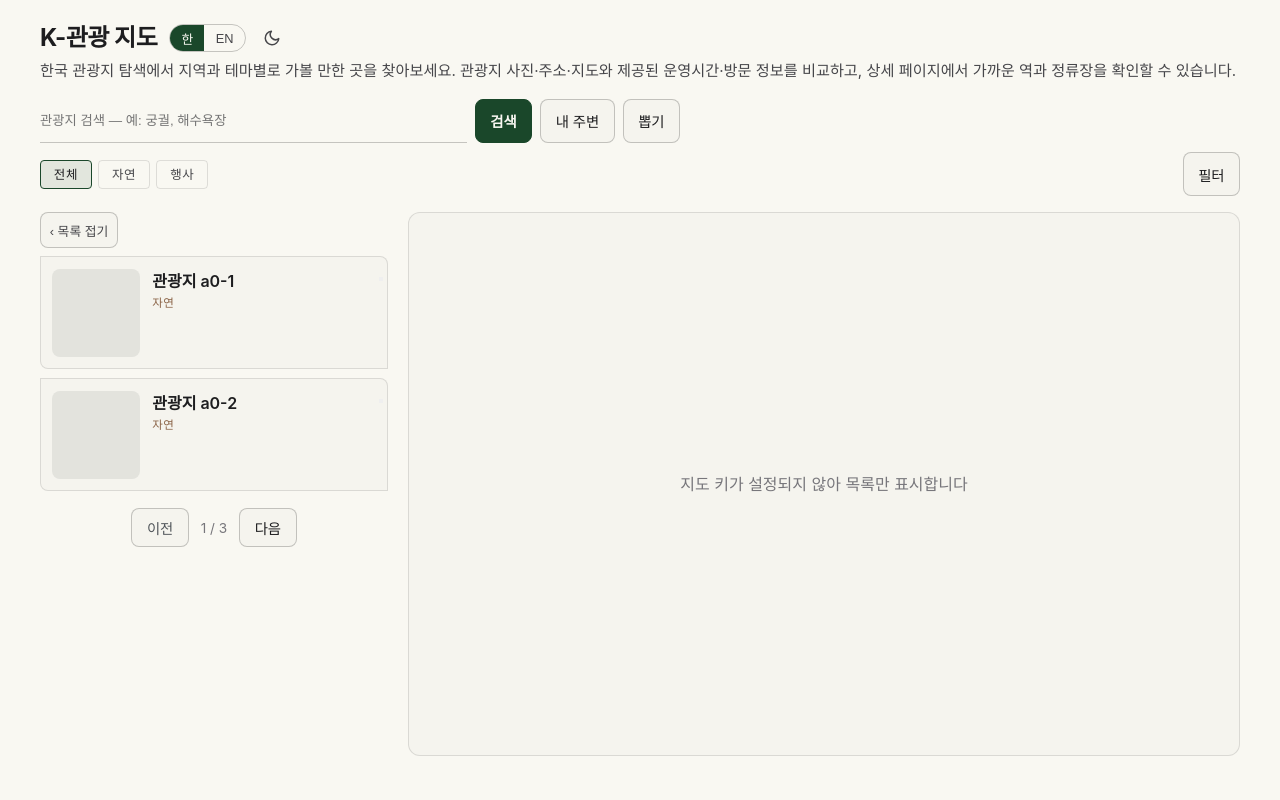
PlacePage 속성 칩 › 행사 칩을 고르면 속성 칩 줄을 그리지 않고 속성 조건·건수 요청도 보내지 않는다 — 풀면 고른 칩이 돌아온다
Expected: the heading "관광지 a0-1" is shown, [152,269,234,293]
Click the button "필터": (1211, 174) [1183,152,1240,196]
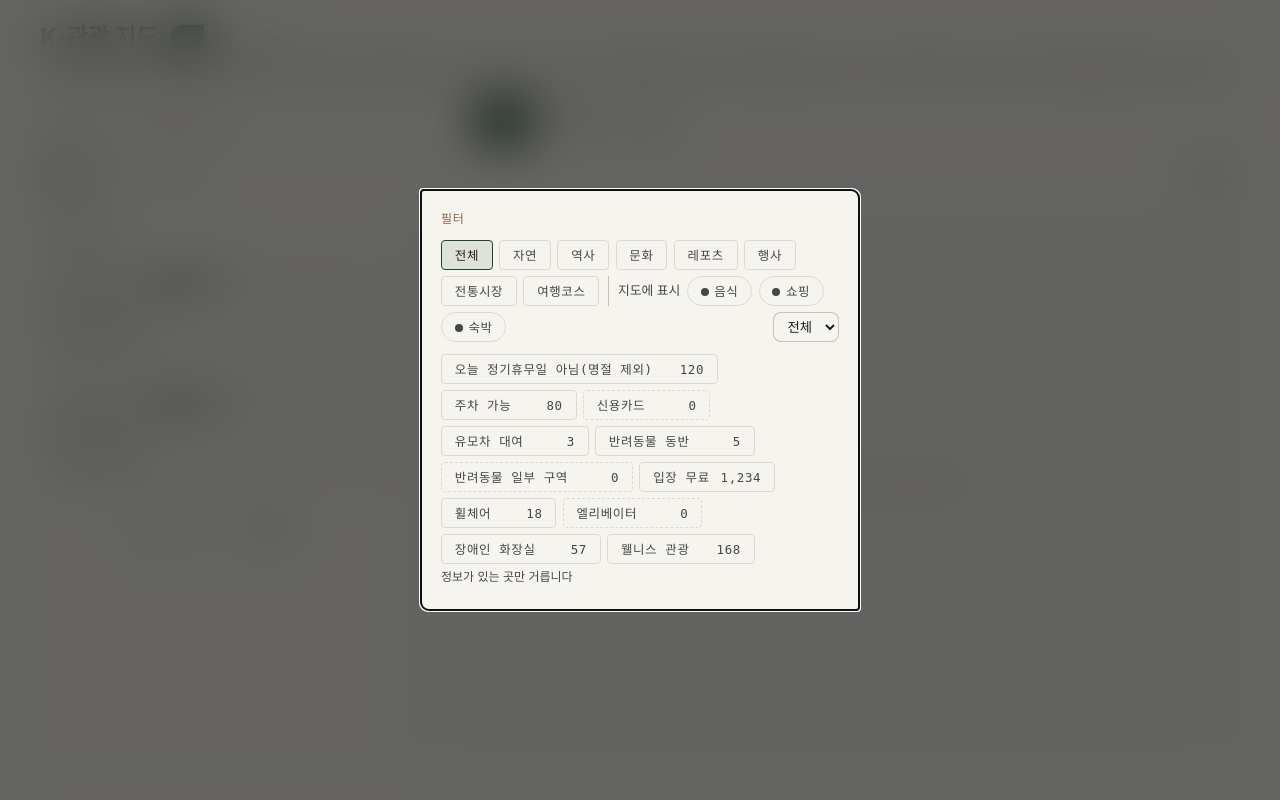
Click the button "주차 가능 80": (509, 405) [441,390,576,420]
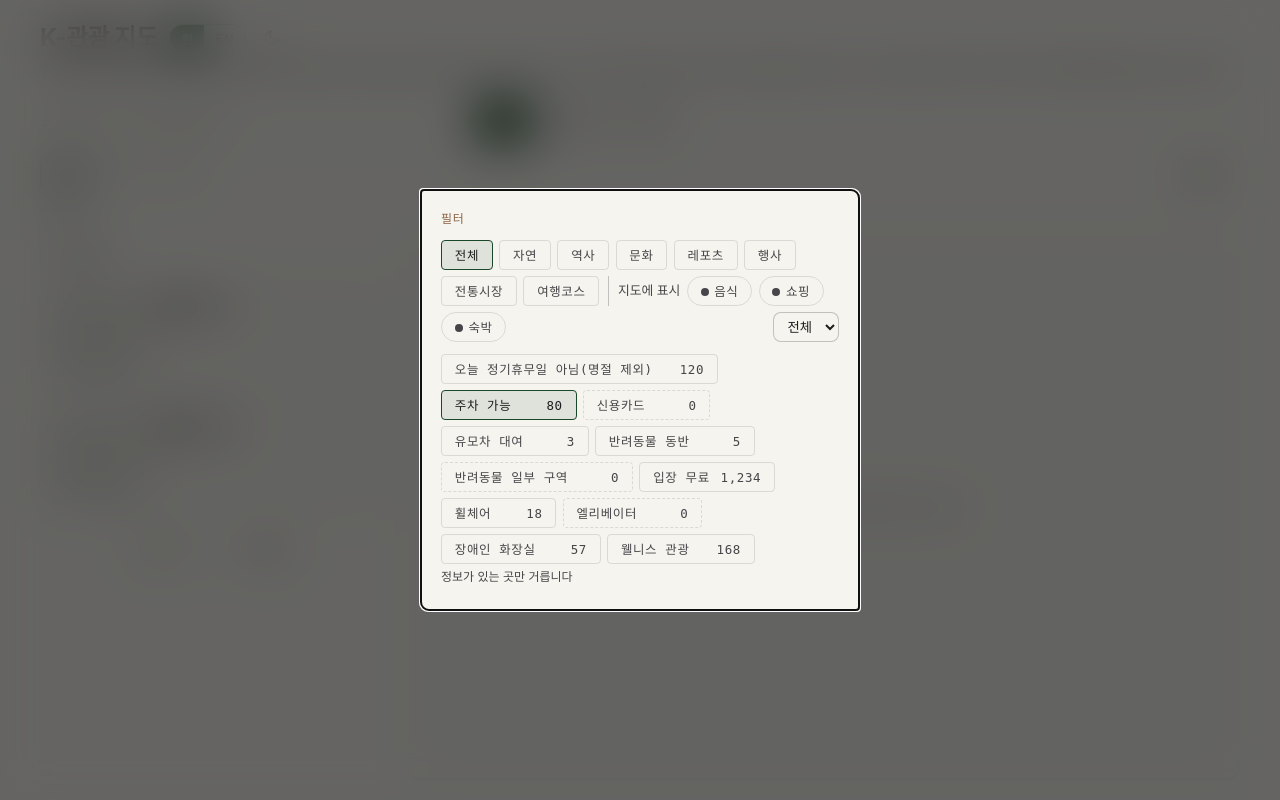
Click the button "행사": (770, 255) [744,240,796,270]
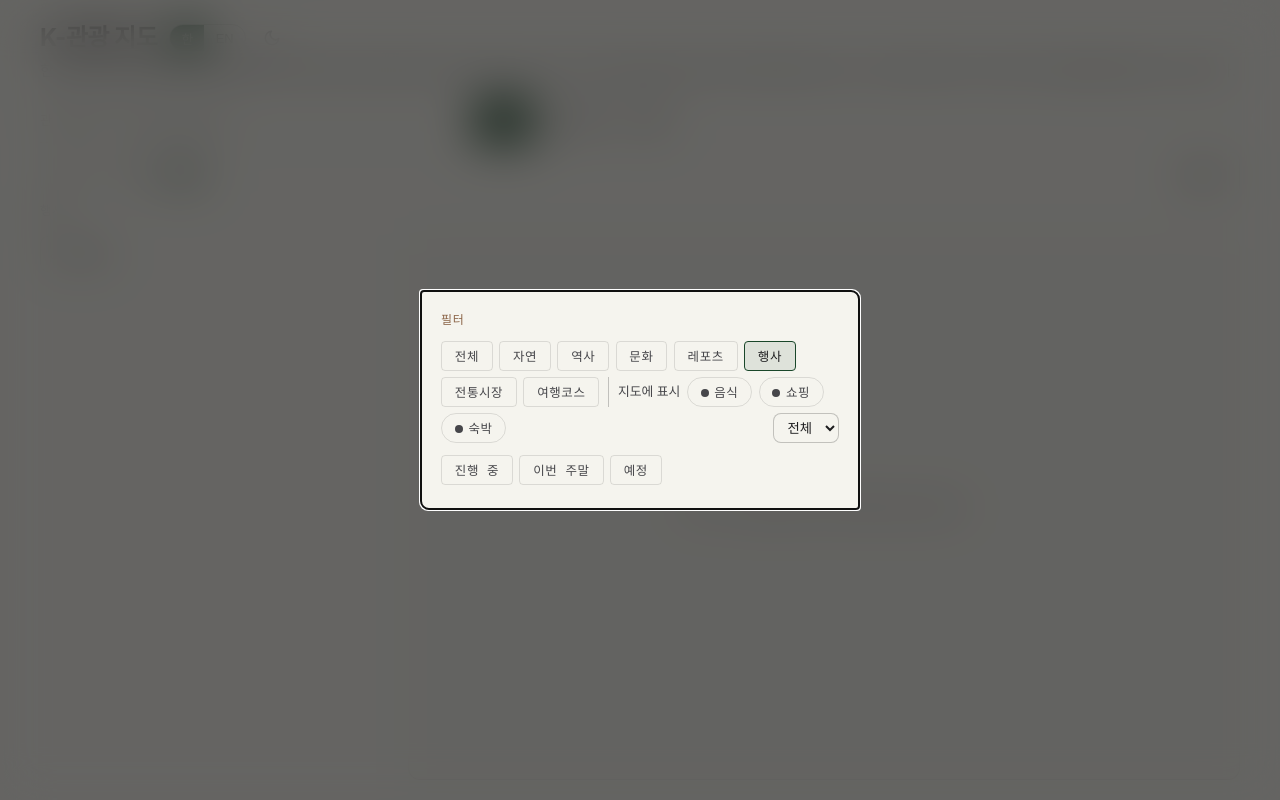
Now the button "오늘 정기휴무일 아님(명절 제외) 120" is gone
Click the button "행사": (770, 356) [744,341,796,371]
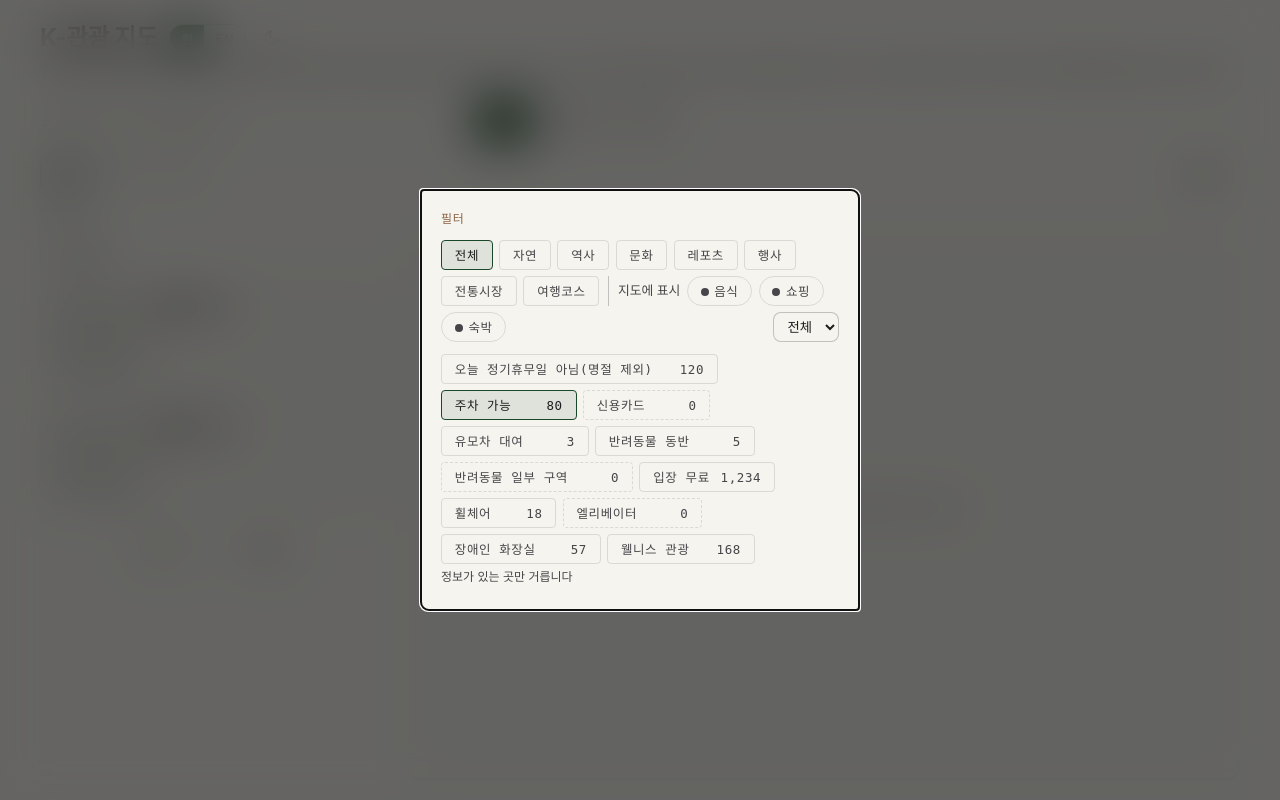
Now the element named "방문 정보 필터" is shown, box [441,354,775,584]
